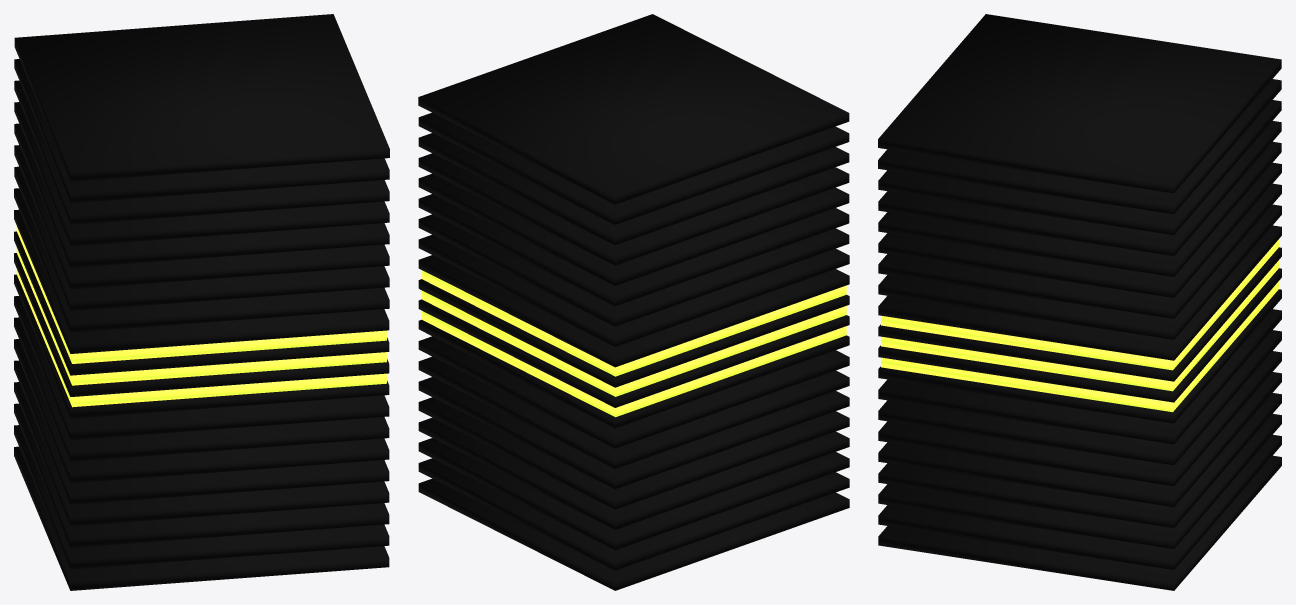
3 renders of one model, left to right at view 1: azimuth 30°, elevation 25°; view 2: azimuth 150°, elevation 25°; view 3: azimuth 270°, elevation 25°, orthographic. The views are drawn at different scales.
Parts seen in each view (by area): view 1: plate_19, plate_16, plate_17, plate_18, plate_15, plate_14, plate_13, plate_12, plate_04, plate_01, plate_02, plate_05 (+11 smaller); view 2: plate_19, plate_16, plate_17, plate_18, plate_13, plate_14, plate_11, plate_03, plate_05, plate_00, plate_15, plate_02 (+11 smaller); view 3: plate_19, plate_17, plate_04, plate_02, plate_03, plate_05, plate_06, plate_16, plate_00, plate_07, plate_01, plate_15 (+11 smaller).
Part boxes in pixels (x1,y1,x2,y2): plate_19: (14,14,389,181); plate_16: (14,102,389,246); plate_17: (14,80,389,224); plate_18: (14,59,389,203); plate_15: (14,123,389,267); plate_14: (14,145,389,289); plate_13: (14,166,389,310); plate_12: (14,188,389,332); plate_04: (14,360,389,504); plate_01: (14,425,389,569); plate_02: (14,403,389,547); plate_05: (14,339,389,483); plate_19: (418,14,849,204); plate_16: (418,153,849,265); plate_17: (418,133,849,245); plate_18: (418,112,849,224); plate_13: (418,214,849,326); plate_14: (418,194,849,306); plate_11: (418,255,849,367); plate_03: (418,417,849,529); plate_05: (418,377,849,489); plate_00: (418,478,849,590); plate_15: (418,173,849,285); plate_02: (418,438,849,550); plate_19: (878,14,1281,193); plate_17: (878,100,1281,235); plate_04: (878,372,1281,507); plate_02: (878,414,1281,548); plate_03: (878,393,1281,527); plate_05: (878,351,1281,486); plate_06: (878,330,1281,465); plate_16: (878,121,1281,255); plate_00: (878,455,1281,590); plate_07: (878,309,1281,444); plate_01: (878,435,1281,569); plate_15: (878,142,1281,276).
Bounding box in the file's own units: 1.92 × 2.14 × 1.92.
